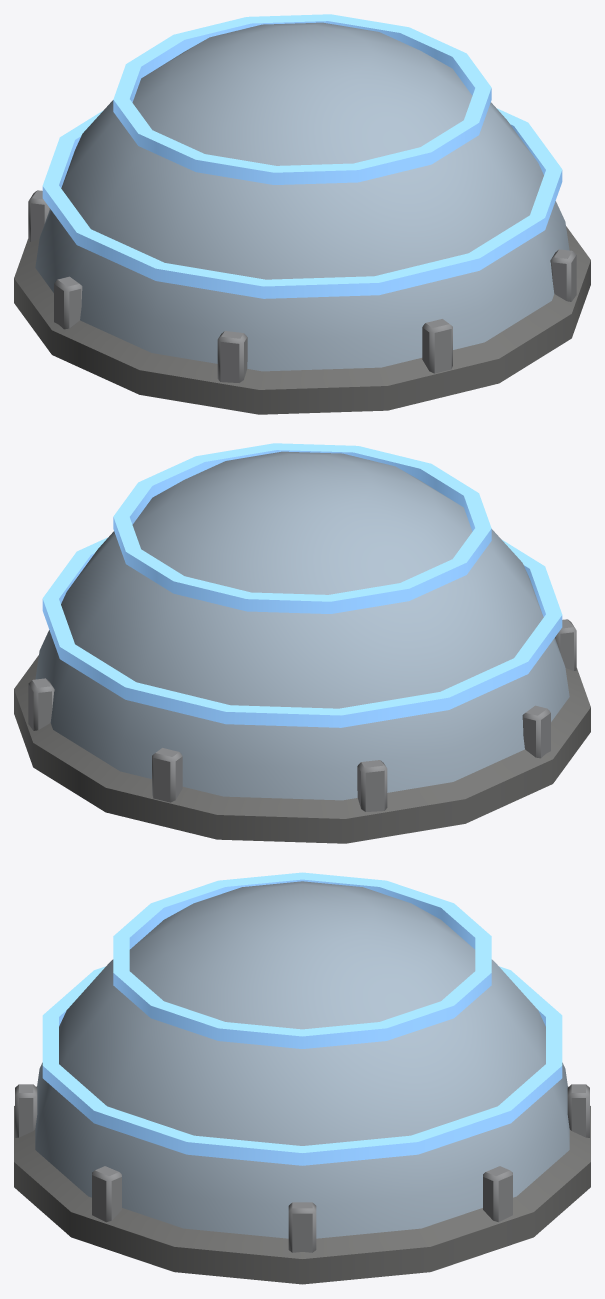
File: dep_dome.glb
3 views of the same model, one above another, from view 1: azimuth 30°, elevation 25°; view 2: azimuth 150°, elevation 25°; view 3: azimuth 270°, elevation 25° (orthographic). The views are drawn at different scales.
Parts seen in each view (by area): view 1: dep_dome; view 2: dep_dome; view 3: dep_dome.
Part boxes in pixels (x1,y1,x2,y2): dep_dome: [14, 14, 590, 414]; dep_dome: [14, 443, 590, 843]; dep_dome: [14, 872, 590, 1284].
Size of what is drawn, in the model's own units: 2.12 by 1 by 2.07.
